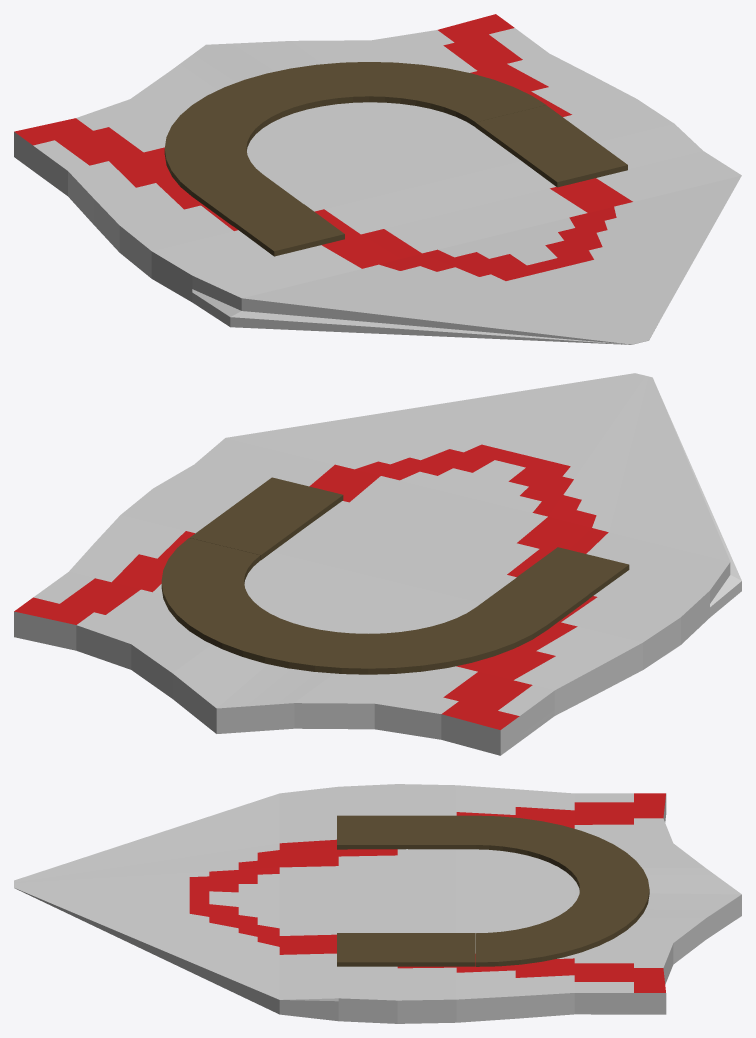
File: escut_final_horseshoe.fbx
3 views of the same model, one above another, from view 1: azimuth 30°, elevation 25°; view 2: azimuth 150°, elevation 25°; view 3: azimuth 270°, elevation 25° (orthographic). The views are drawn at different scales.
Visible parts, largest first — view 1: horseshoe_escut; view 2: horseshoe_escut; view 3: horseshoe_escut.
Part boxes in pixels (<box>): horseshoe_escut: <box>14,14,741,344</box>; horseshoe_escut: <box>14,373,741,755</box>; horseshoe_escut: <box>14,784,741,1023</box>.
Size of the model in its own units: 35.42 by 2.61 by 50.32.
